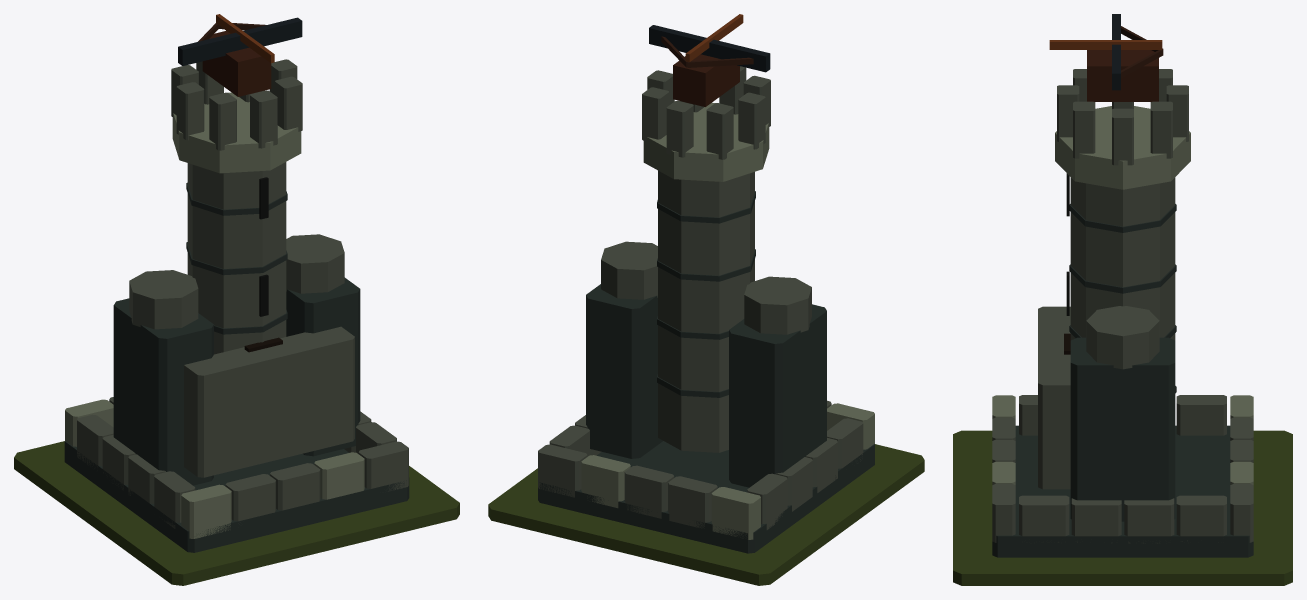
File: bastion_t1.glb
3 views of the same model, side by side, from view 1: azimuth 30°, elevation 25°; view 2: azimuth 150°, elevation 25°; view 3: azimuth 270°, elevation 25° (orthographic). The views are drawn at different scales.
Parts seen in each view (by area): view 1: MMR | bastion | T01 Architecture.001, MMR | bastion | T01 Heavy Buttresses.001, MMR | bastion | Tier 01 Ground.001; view 2: MMR | bastion | T01 Architecture.001, MMR | bastion | T01 Heavy Buttresses.001, MMR | bastion | Tier 01 Ground.001; view 3: MMR | bastion | T01 Architecture.001, MMR | bastion | T01 Heavy Buttresses.001, MMR | bastion | Tier 01 Ground.001.
Part boxes in pixels (left/top/right/bottom): MMR | bastion | T01 Architecture.001: left=64, top=14, right=409, bottom=552; MMR | bastion | T01 Heavy Buttresses.001: left=113, top=234, right=360, bottom=485; MMR | bastion | Tier 01 Ground.001: left=14, top=441, right=459, bottom=585; MMR | bastion | T01 Architecture.001: left=538, top=14, right=874, bottom=553; MMR | bastion | T01 Heavy Buttresses.001: left=586, top=241, right=826, bottom=487; MMR | bastion | Tier 01 Ground.001: left=488, top=444, right=924, bottom=585; MMR | bastion | T01 Architecture.001: left=992, top=14, right=1253, bottom=557; MMR | bastion | T01 Heavy Buttresses.001: left=1038, top=306, right=1175, bottom=521; MMR | bastion | Tier 01 Ground.001: left=953, top=430, right=1292, bottom=585.
Bounding box in the file's own units: 1.3 × 2 × 1.3.
1 material, 1 textured.
